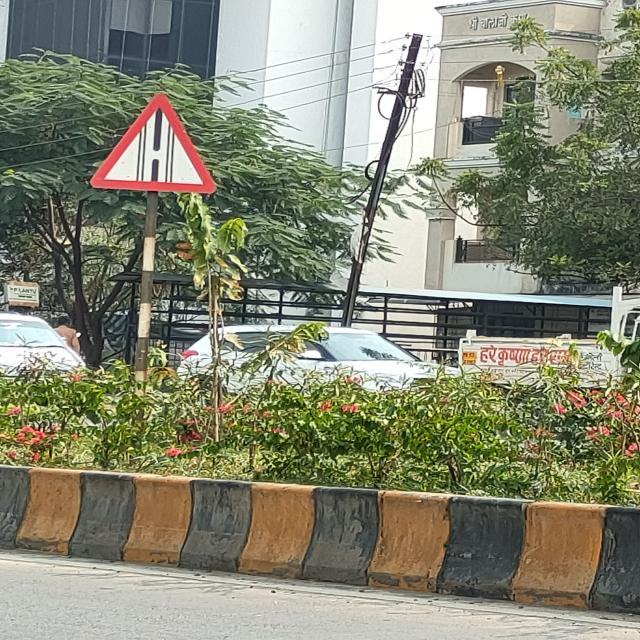GAP_IN_MEDIAN: (89, 91, 217, 195)
